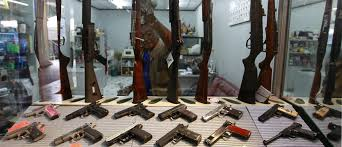gun: (262, 118, 323, 147), (51, 123, 105, 146), (205, 120, 252, 146), (112, 101, 158, 123), (201, 103, 248, 122), (257, 103, 302, 122), (110, 126, 155, 144), (4, 123, 46, 142), (65, 103, 109, 121), (21, 103, 62, 122), (162, 102, 197, 124)
